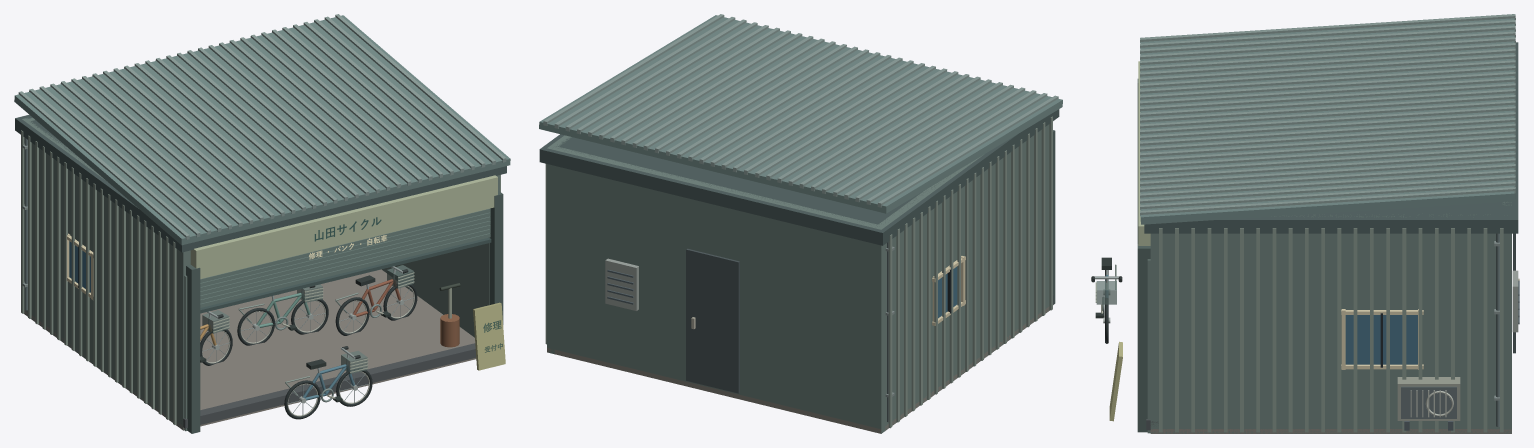
The model's file is cycle.glb.
3 views of the same model, side by side, from view 1: azimuth 30°, elevation 25°; view 2: azimuth 150°, elevation 25°; view 3: azimuth 270°, elevation 25° (orthographic). The views are drawn at different scales.
Visible parts, largest first — view 1: 山田自行车店, 自行车 (×4); view 2: 山田自行车店; view 3: 山田自行车店, 室外空调机, 自行车.
Part boxes in pixels (x1=…): 山田自行车店: x1=14, y1=14, x2=510, y2=433; 自行车 (×4): x1=200, y1=265, x2=417, y2=419; 山田自行车店: x1=539, y1=14, x2=1062, y2=433; 山田自行车店: x1=1109, y1=14, x2=1519, y2=433; 室外空调机: x1=1397, y1=377, x2=1460, y2=430; 自行车: x1=1091, y1=257, x2=1122, y2=343.
Size of the model in its own units: 6.41 by 3.98 by 6.28.
69 materials, 4 textured.
